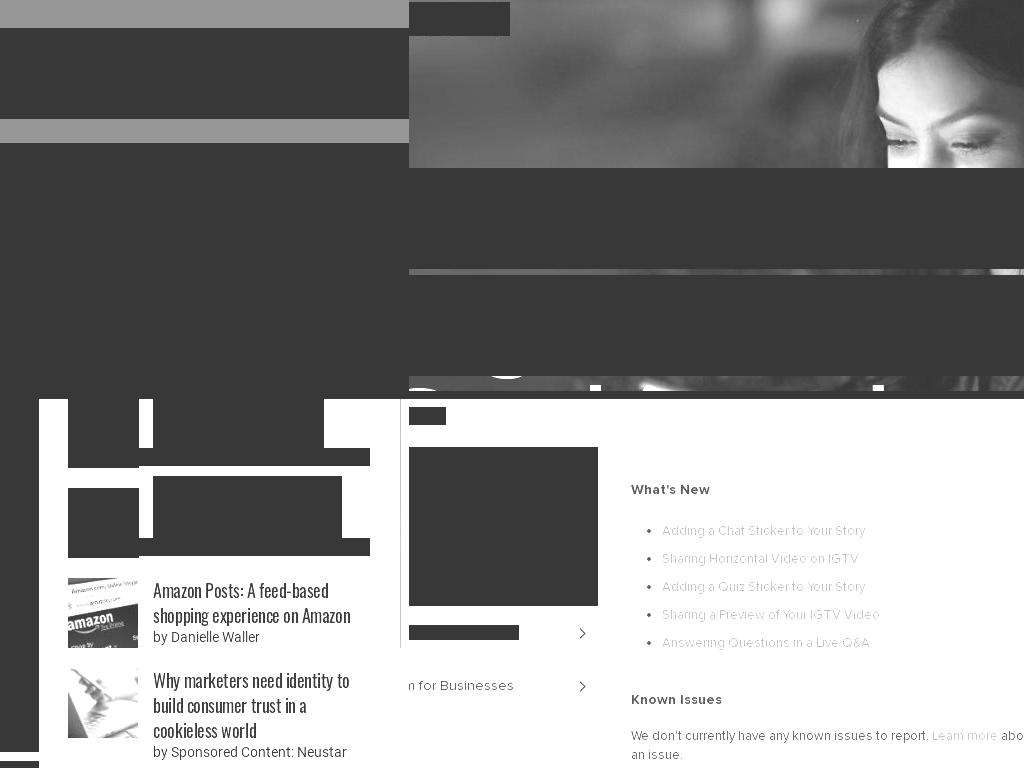button: (409, 447, 598, 500), (409, 500, 598, 553), (409, 553, 598, 606), (409, 606, 598, 659), (409, 659, 598, 712), (68, 448, 370, 466), (68, 538, 370, 556), (68, 628, 370, 646), (68, 743, 370, 761)
heading: (631, 479, 1024, 500), (409, 2, 510, 36), (631, 690, 722, 707)
image: (0, 143, 409, 399), (0, 28, 409, 119), (576, 467, 588, 480), (576, 520, 588, 533), (576, 573, 588, 586), (576, 626, 588, 639), (576, 679, 588, 692)
link: (662, 607, 881, 623), (662, 635, 871, 651), (662, 522, 866, 538), (662, 578, 866, 594), (662, 550, 860, 566), (932, 727, 998, 743)
text: (409, 168, 1024, 269), (409, 275, 1024, 376), (153, 656, 350, 743), (631, 727, 1024, 762), (153, 566, 351, 628), (153, 476, 342, 538), (153, 399, 324, 448), (68, 488, 139, 558), (68, 578, 139, 648), (68, 668, 139, 738), (68, 399, 139, 468), (631, 727, 932, 743), (409, 572, 560, 587), (409, 625, 519, 640), (409, 678, 514, 693), (409, 519, 504, 534), (409, 466, 454, 481), (409, 407, 446, 425)
